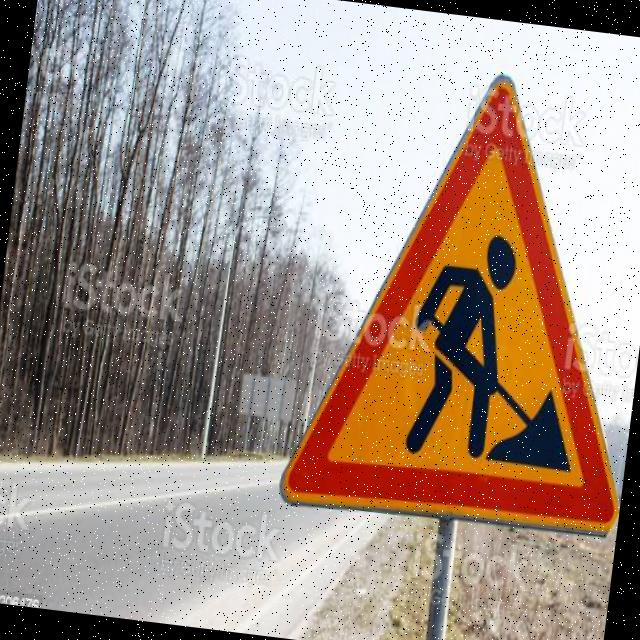road_work: (276, 42, 640, 549)
